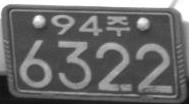2: (136, 41, 172, 94), (95, 41, 133, 91)
3: (56, 40, 91, 90)
4: (78, 15, 102, 36)
6: (18, 39, 53, 89)
9: (50, 13, 75, 35)
주: (105, 15, 130, 37)
